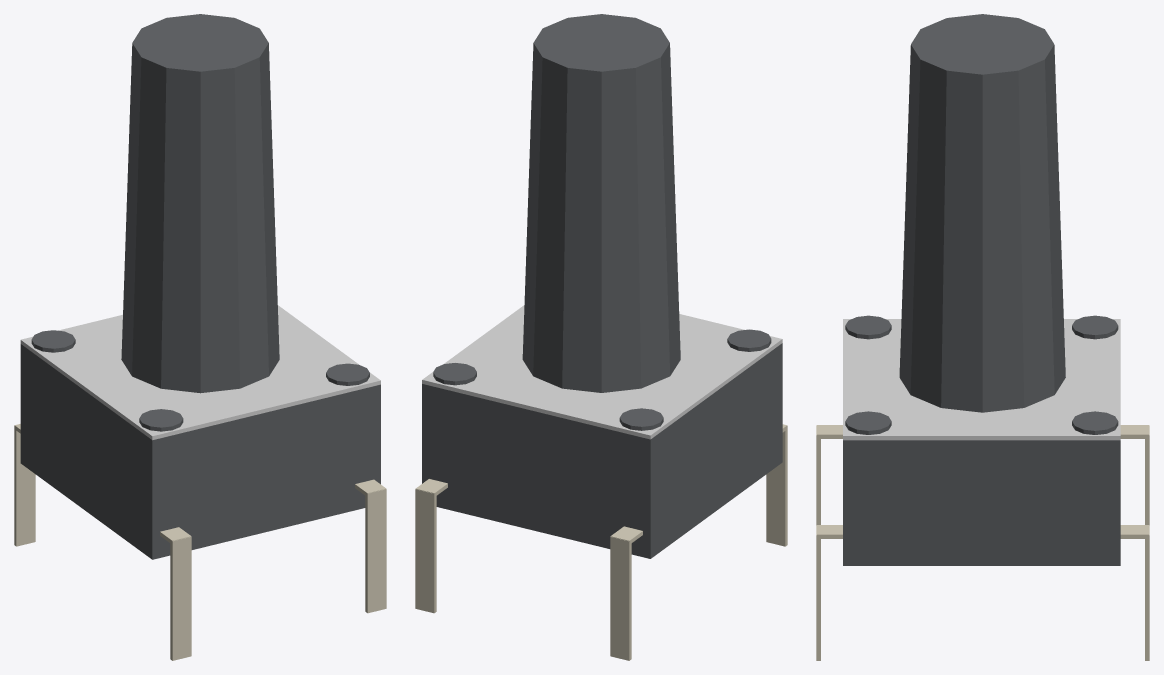
Rendered from cicuit (1).glb.
3 views of the same model, side by side, from view 1: azimuth 30°, elevation 25°; view 2: azimuth 150°, elevation 25°; view 3: azimuth 270°, elevation 25° (orthographic). The views are drawn at different scales.
Parts seen in each view (by area): view 1: Mesh_Mesh_head_geo.001_lambert2SG.001; view 2: Mesh_Mesh_head_geo.001_lambert2SG.001; view 3: Mesh_Mesh_head_geo.001_lambert2SG.001.
Part boxes in pixels (box(x1,y1,x2,y2)): Mesh_Mesh_head_geo.001_lambert2SG.001: box(14, 14, 386, 660); Mesh_Mesh_head_geo.001_lambert2SG.001: box(415, 14, 787, 660); Mesh_Mesh_head_geo.001_lambert2SG.001: box(816, 14, 1149, 660).
Bounding box in the file's own units: 6 × 13.4 × 7.2.
